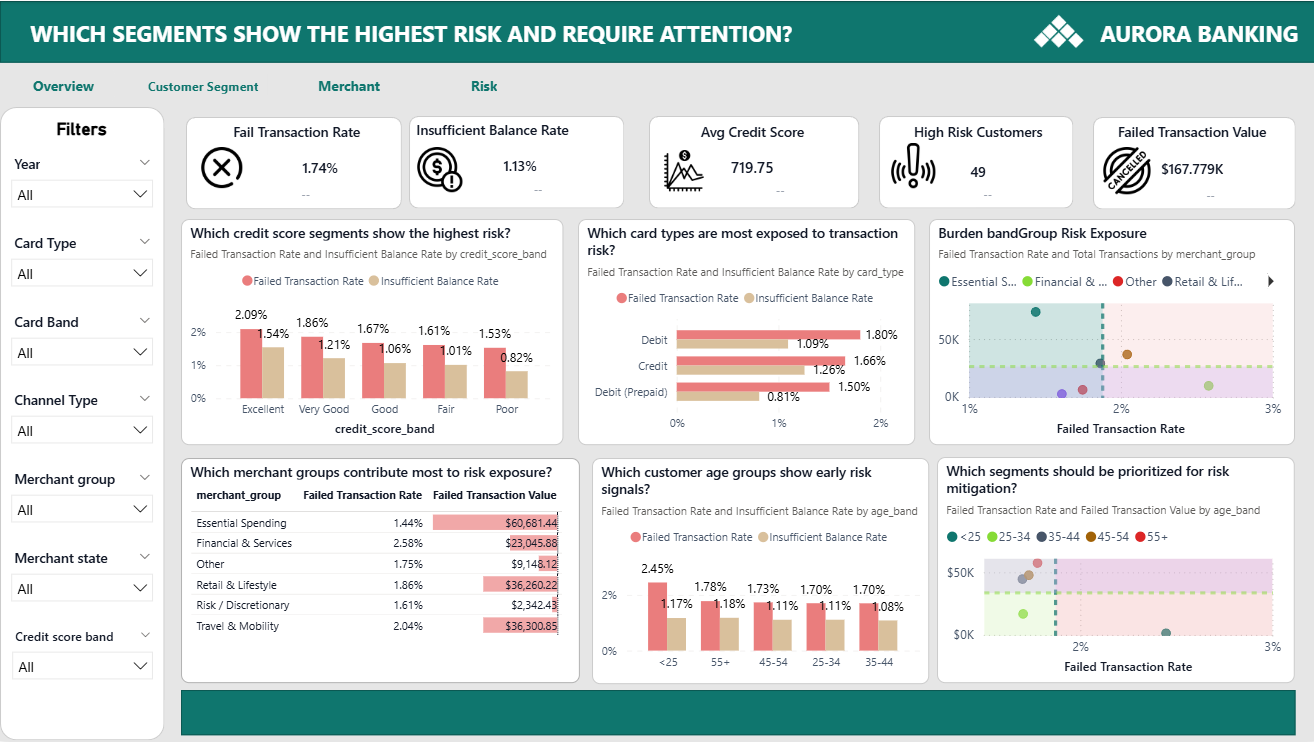

The page's visual inventory and layout, read from the dashboard file:
{"tool":"powerbi","page":{"name":"Risk","canvas":[1280,720],"ordinal":3},"visuals":[{"type":"actionButton","title":"btn_campaign","box":[171.8,64.6,163.5,34.6],"z":0,"group":"g8"},{"type":"shape","box":[0,103,160,616],"z":0,"group":"g1"},{"type":"shape","box":[398.1,111.8,209.4,90],"z":0,"group":"g3"},{"type":"shape","box":[631.5,111.8,204.5,90],"z":0,"group":"g4"},{"type":"shape","box":[854.8,111.8,189.1,90],"z":0,"group":"g5"},{"type":"shape","box":[181.2,112.7,209.9,89.8],"z":0,"group":"g2"},{"type":"shape","box":[1062.7,112.7,197.3,90],"z":0,"group":"g6"},{"type":"actionButton","title":"btn_overview","box":[11.3,64.6,130.8,35],"z":1000,"group":"g8"},{"type":"cardVisual","title":"Insufficient Balance Rate","fields":{"Data":["_mesure.Insufficient Balance Rate"]},"box":[399.7,116.3,213,78.2],"z":1000,"group":"g3"},{"type":"cardVisual","title":"High Risk Customers ","fields":{"Data":["_mesure.High Risk Customers"]},"box":[863.1,118.3,175.5,76.4],"z":1000,"group":"g5"},{"type":"cardVisual","title":"Failed Transaction Value","fields":{"Data":["_mesure.Failed Transaction Value"]},"box":[1071.7,118.6,175.4,80],"z":1000,"group":"g6"},{"type":"cardVisual","title":"Avg Credit Score ","fields":{"Data":["_mesure.Avg Credit Score"]},"box":[651.9,119.1,160.4,77.3],"z":1000,"group":"g4"},{"type":"slicer","fields":{"Values":["dim_date.date.Variation.Date Hierarchy.Year"]},"box":[6,150,148,61],"z":1000,"group":"g1"},{"type":"scatterChart","title":" Which segments should be prioritized for risk mitigation?","fields":{"X":["_mesure.Failed Transaction Rate"],"Y":["_mesure.Failed Transaction Value"],"Series":["dim_customer.age_band"]},"box":[911.8,443.6,348.2,220],"z":1000},{"type":"actionButton","title":"btn_insight","box":[706.8,63,130,35],"z":1500,"group":"g8"},{"type":"actionButton","title":"btn_customer","box":[534.6,64.6,142.6,34.6],"z":2000,"group":"g8"},{"type":"textbox","box":[11.8,108.5,135.5,33.6],"z":2000,"group":"g1"},{"type":"cardVisual","title":"Fail Transaction Rate","fields":{"Data":["_mesure.Failed Transaction Rate"]},"box":[222.5,118.4,180,80],"z":2000,"group":"g2"},{"type":"actionButton","title":"btn_product ","box":[364.9,64.6,139.9,34.6],"z":3000,"group":"g8"},{"type":"cardVisual","title":"VPAC","fields":{"Data":["_mesure.Failed Transaction Rate Label"]},"box":[387.3,154.5,225.5,52.7],"z":3000},{"type":"cardVisual","title":"VPAC","fields":{"Data":["_mesure.Failed Transaction Rate Label"]},"box":[202.5,160.2,190.9,50.9],"z":3000,"group":"g2"},{"type":"slicer","fields":{"Values":["dim_card.card_type"]},"box":[6,226.6,148,61],"z":3000,"group":"g1"},{"type":"slicer","fields":{"Values":["dim_card.card_brand"]},"box":[6,303.1,148,61],"z":4000,"group":"g1"},{"type":"clusteredColumnChart","title":"Which credit score segments show the highest risk?","fields":{"Y":["_mesure.Failed Transaction Rate","_mesure.Insufficient Balance Rate"],"Category":["dim_customer.credit_score_band"]},"box":[176.4,211.8,371.8,220],"z":5000},{"type":"slicer","fields":{"Values":["fact_transactions.channel_type"]},"box":[6,379.7,148,61],"z":5000,"group":"g1"},{"type":"scatterChart","title":"Burden bandGroup Risk Exposure","fields":{"X":["_mesure.Failed Transaction Rate"],"Y":["_mesure.Total Transactions"],"Series":["dim_mcc.merchant_group"]},"box":[903.6,211.8,356.4,220],"z":6000},{"type":"slicer","fields":{"Values":["dim_mcc.merchant_group"]},"box":[6,456.2,148,61],"z":6000,"group":"g1"},{"type":"shape","box":[0,0,1280,60],"z":7000},{"type":"slicer","fields":{"Values":["dim_merchant.merchant_state"]},"box":[6,532.8,148,61],"z":7000,"group":"g1"},{"type":"slicer","fields":{"Values":["dim_customer.credit_score_band"]},"box":[6.4,609.4,147.3,60.9],"z":7500,"group":"g1"},{"type":"shape","box":[176,670,1084,44],"z":8000},{"type":"textbox","box":[1064.6,11.7,215,46.7],"z":11000,"group":"g7"},{"type":"group","id":"g1","title":"Filter page","box":[0,103,160,616],"z":11000},{"type":"group","id":"g2","title":"kpi VPAC","box":[181.2,112.7,221.3,98.4],"z":12000},{"type":"group","id":"g3","title":"kpi total cus","box":[398.1,111.8,214.5,90],"z":13000},{"type":"group","id":"g4","title":"kpi active","box":[631.5,111.8,204.5,90],"z":14000},{"type":"group","id":"g5","title":"kpi txs ","box":[854.8,111.8,189.1,90],"z":15000},{"type":"group","id":"g6","title":"kpi net txs","box":[1062.7,112.7,197.3,90],"z":16000},{"type":"clusteredBarChart","title":"Which card types are most exposed to transaction risk?","fields":{"Y":["_mesure.Failed Transaction Rate","_mesure.Insufficient Balance Rate"],"Category":["dim_card.card_type"]},"box":[561.8,211.8,328.2,220],"z":17000},{"type":"tableEx","title":"Which merchant groups contribute most to risk exposure?","fields":{"Values":["dim_mcc.merchant_group","_mesure.Failed Transaction Rate","_mesure.Failed Transaction Value"]},"box":[176.4,444.5,388.2,219.1],"z":18000},{"type":"clusteredColumnChart","title":"Which customer age groups show early risk signals?","fields":{"Category":["dim_customer.age_band"],"Y":["_mesure.Failed Transaction Rate","_mesure.Insufficient Balance Rate"]},"box":[575.5,444.5,328.2,220],"z":19000},{"type":"cardVisual","title":"VPAC","fields":{"Data":["_mesure.Insufficient Balance Rate Change Label"]},"box":[430.9,154.5,185.5,52.7],"z":20000},{"type":"cardVisual","title":"VPAC","fields":{"Data":["_mesure.Avg Credit Score Change Label"]},"box":[664.5,155.5,189.1,52.7],"z":21000},{"type":"image","box":[994,0,72.7,60.3],"z":21007,"group":"g7"},{"type":"cardVisual","title":"VPAC","fields":{"Data":["_mesure.High Risk Customers Change Label"]},"box":[866.4,159.1,188.2,52.7],"z":22000},{"type":"cardVisual","title":"VPAC","fields":{"Data":["_mesure.Failed Transaction Rate Change Label"]},"box":[1086.4,160,182.7,52.7],"z":23000},{"type":"group","id":"g7","title":"Group 2","box":[994,0,286,60.3],"z":24000},{"type":"image","box":[187.3,141.8,55.5,40],"z":25000},{"type":"image","box":[398.2,141.8,60,43.6],"z":26000},{"type":"image","box":[631.8,141.8,65.5,46.4],"z":27000},{"type":"image","box":[860,138.2,57.3,43.6],"z":28000},{"type":"image","box":[1062.7,141.8,65.5,46.4],"z":29000},{"type":"textbox","box":[24.3,11.7,785.9,46.7],"z":30000},{"type":"group","id":"g8","title":"Group 1","box":[11.3,63,825.5,36.6],"z":30001}]}

Visuals, with their boxes in screenshot pixels (x1, y1, x2, y2), scaled from the page's 1280x720 canvas onto the 1314x742 screenshot:
"btn_campaign" actionButton: rect(176, 67, 344, 102)
shape: rect(0, 106, 164, 741)
shape: rect(409, 115, 624, 208)
shape: rect(648, 115, 858, 208)
shape: rect(878, 115, 1072, 208)
shape: rect(186, 116, 401, 209)
shape: rect(1091, 116, 1293, 209)
"btn_overview" actionButton: rect(12, 67, 146, 103)
"Insufficient Balance Rate" cardVisual: rect(410, 120, 629, 200)
"High Risk Customers " cardVisual: rect(886, 122, 1066, 201)
"Failed Transaction Value" cardVisual: rect(1100, 122, 1280, 205)
"Avg Credit Score " cardVisual: rect(669, 123, 834, 202)
slicer - dim_date.date.Variation.Date Hierarchy.Year: rect(6, 155, 158, 217)
" Which segments should be prioritized for risk mitigation?" scatterChart: rect(936, 457, 1293, 684)
"btn_insight" actionButton: rect(726, 65, 859, 101)
"btn_customer" actionButton: rect(549, 67, 695, 102)
textbox: rect(12, 112, 151, 146)
"Fail Transaction Rate" cardVisual: rect(228, 122, 413, 204)
"btn_product " actionButton: rect(375, 67, 518, 102)
"VPAC" cardVisual: rect(398, 159, 629, 214)
"VPAC" cardVisual: rect(208, 165, 404, 218)
slicer - dim_card.card_type: rect(6, 234, 158, 296)
slicer - dim_card.card_brand: rect(6, 312, 158, 375)
"Which credit score segments show the highest risk?" clusteredColumnChart: rect(181, 218, 563, 445)
slicer - fact_transactions.channel_type: rect(6, 391, 158, 454)
"Burden bandGroup Risk Exposure" scatterChart: rect(928, 218, 1293, 445)
slicer - dim_mcc.merchant_group: rect(6, 470, 158, 533)
shape: rect(0, 0, 1313, 62)
slicer - dim_merchant.merchant_state: rect(6, 549, 158, 612)
slicer - dim_customer.credit_score_band: rect(7, 628, 158, 691)
shape: rect(181, 690, 1293, 736)
textbox: rect(1093, 12, 1313, 60)
"Filter page" group: rect(0, 106, 164, 741)
"kpi VPAC" group: rect(186, 116, 413, 218)
"kpi total cus" group: rect(409, 115, 629, 208)
"kpi active" group: rect(648, 115, 858, 208)
"kpi txs " group: rect(878, 115, 1072, 208)
"kpi net txs" group: rect(1091, 116, 1293, 209)
"Which card types are most exposed to transaction risk?" clusteredBarChart: rect(577, 218, 914, 445)
"Which merchant groups contribute most to risk exposure?" tableEx: rect(181, 458, 580, 684)
"Which customer age groups show early risk signals?" clusteredColumnChart: rect(591, 458, 928, 685)
"VPAC" cardVisual: rect(442, 159, 633, 214)
"VPAC" cardVisual: rect(682, 160, 876, 215)
image: rect(1020, 0, 1095, 62)
"VPAC" cardVisual: rect(889, 164, 1083, 218)
"VPAC" cardVisual: rect(1115, 165, 1303, 219)
"Group 2" group: rect(1020, 0, 1313, 62)
image: rect(192, 146, 249, 187)
image: rect(409, 146, 470, 191)
image: rect(649, 146, 716, 194)
image: rect(883, 142, 942, 187)
image: rect(1091, 146, 1158, 194)
textbox: rect(25, 12, 832, 60)
"Group 1" group: rect(12, 65, 859, 103)
